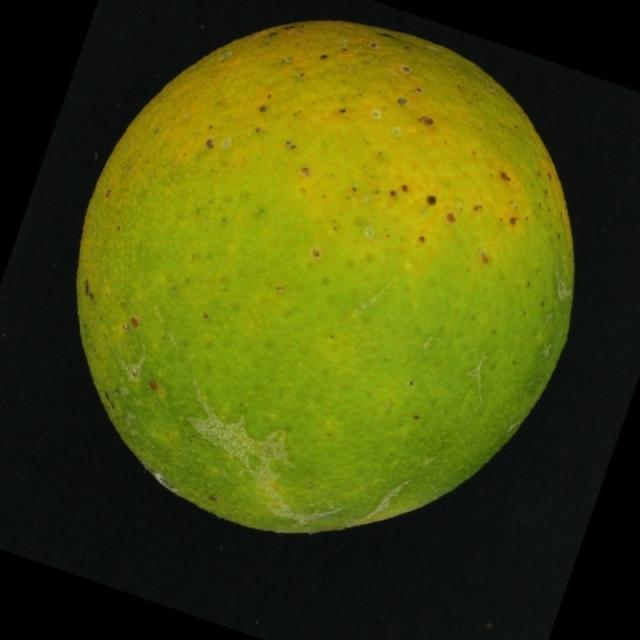grenning: (46, 12, 596, 547)
